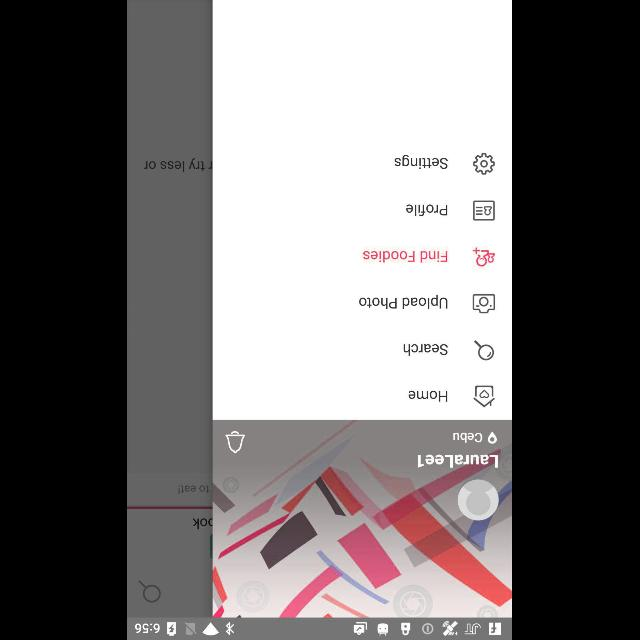icon: (458, 480, 499, 520), (139, 580, 161, 602), (474, 153, 496, 175), (474, 386, 496, 408), (226, 431, 247, 454), (474, 200, 496, 220), (474, 294, 496, 314), (474, 340, 496, 360), (472, 248, 496, 266), (488, 432, 498, 444)
panel: (213, 0, 512, 618)
text: (360, 294, 448, 310), (419, 454, 499, 468), (364, 250, 448, 262), (395, 154, 449, 170), (404, 344, 448, 356), (407, 204, 449, 216), (409, 390, 449, 402), (454, 432, 484, 442)
uppertaskbar: (128, 617, 512, 639)
